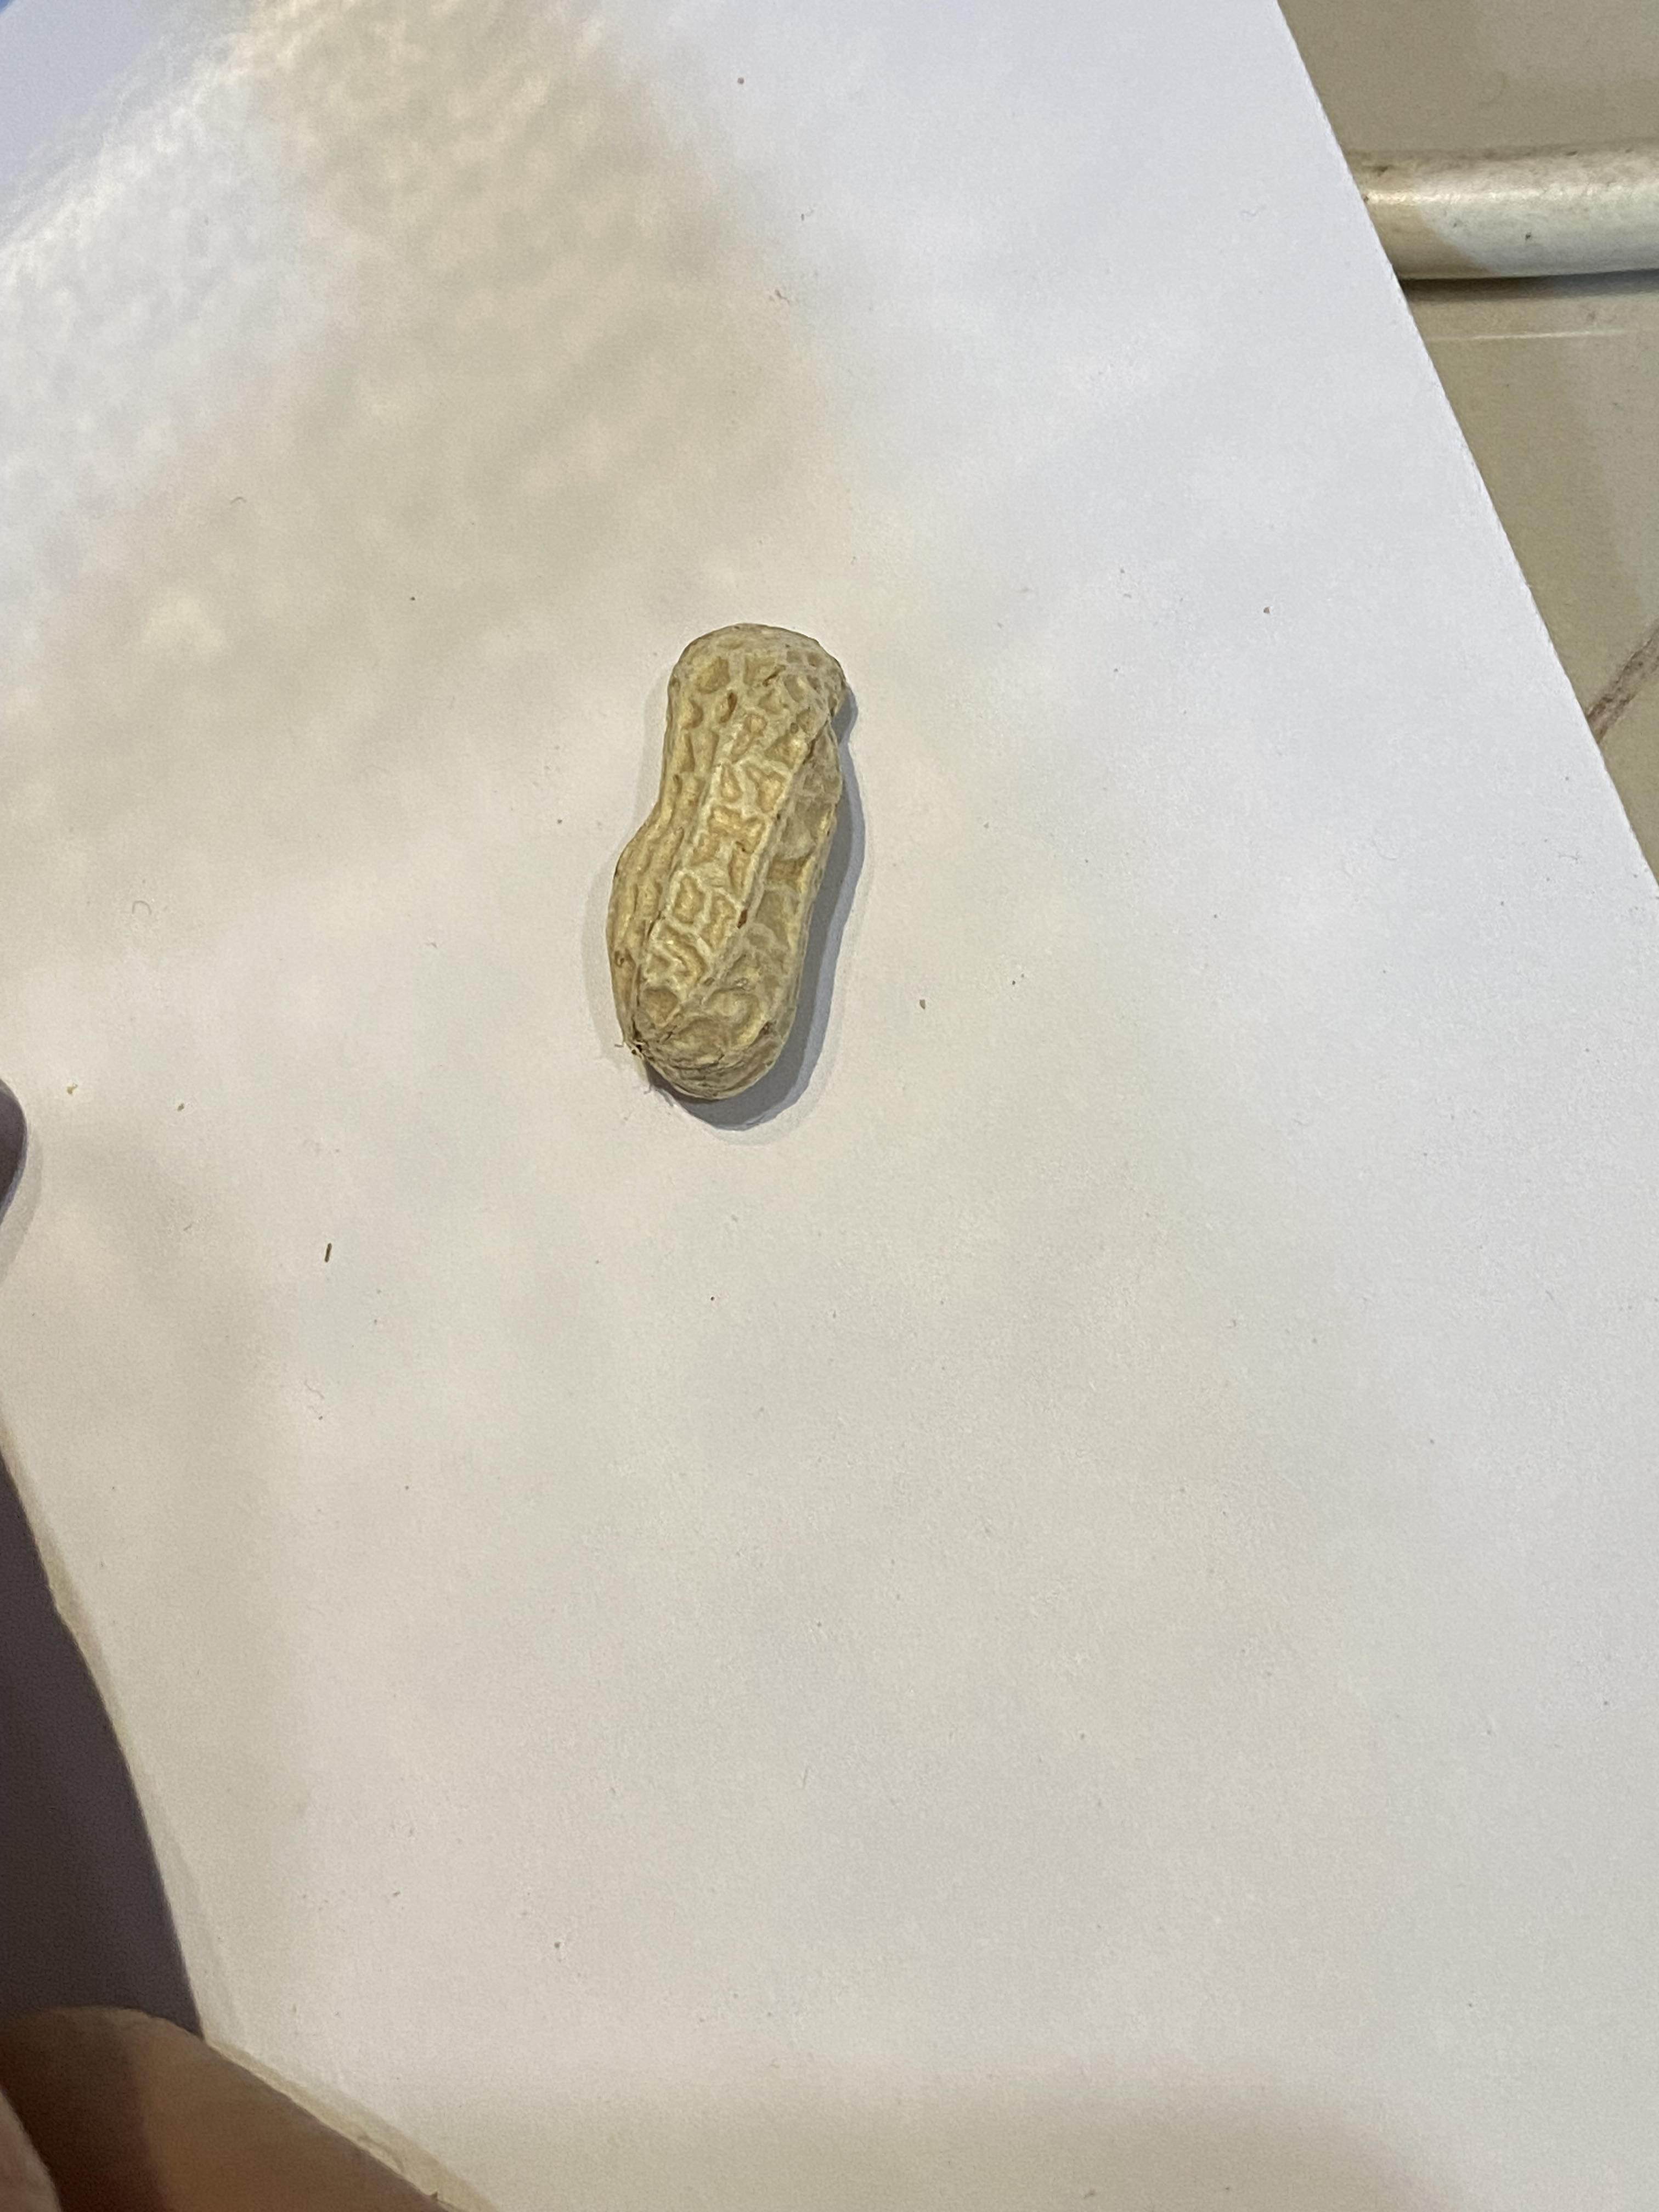kacang2: (559, 578, 885, 1113)
